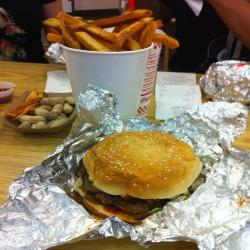burger: (63, 125, 210, 228)
fries: (39, 7, 185, 61)
